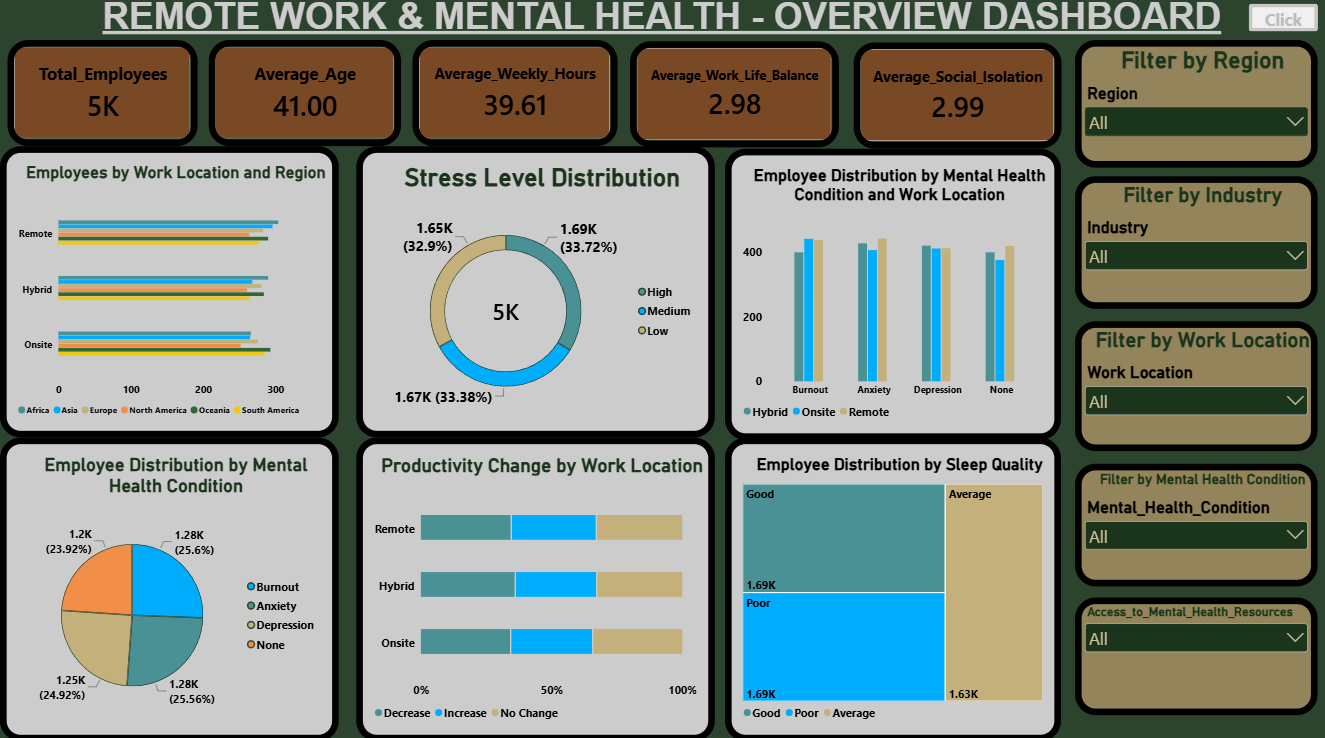

The page's visual inventory and layout, read from the dashboard file:
{"tool":"powerbi","page":{"name":"Overview Dashboard","canvas":[1920,1080],"ordinal":1},"visuals":[{"type":"textbox","box":[133.9,0,1648.6,65.1],"z":0},{"type":"clusteredBarChart","title":"Employees by Work Location and Region","fields":{"Category":["Cleaned_Data1.Work_Location"],"Series":["Cleaned_Data1.Region"],"Y":["Count(Cleaned_Data1.Employee_ID)"]},"box":[0,219,490.4,421.7],"z":2},{"type":"donutChart","title":"Stress Level Distribution","fields":{"Category":["Cleaned_Data1.Stress_Level"],"Y":["CountNonNull(Cleaned_Data1.Employee_ID)"]},"box":[515.8,219,519.4,421.7],"z":3},{"type":"pieChart","title":"Employee Distribution by Mental Health Condition","fields":{"Category":["Cleaned_Data1.Mental_Health_Condition"],"Y":["Count(Cleaned_Data1.Employee_ID)"]},"box":[0,640.6,490.4,439.7],"z":4},{"type":"hundredPercentStackedBarChart","title":"Productivity Change by Work Location","fields":{"Category":["Cleaned_Data1.Work_Location"],"Series":["Cleaned_Data1.Productivity_Change"],"Y":["Count(Cleaned_Data1.Employee_ID)"]},"box":[515.8,640.6,519.4,439.7],"z":5},{"type":"treemap","title":"Employee Distribution by Sleep Quality","fields":{"Group":["Cleaned_Data1.Sleep_Quality"],"Values":["Count(Cleaned_Data1.Employee_ID)"]},"box":[1049.6,640.6,486.8,439.7],"z":6},{"type":"clusteredColumnChart","title":"Employee Distribution by Mental Health Condition and Work Location","fields":{"Category":["Cleaned_Data1.Mental_Health_Condition"],"Series":["Cleaned_Data1.Work_Location"],"Y":["CountNonNull(Cleaned_Data1.Employee_ID)"]},"box":[1049.6,222.6,486.8,421.7],"z":7},{"type":"slicer","title":"Filter by Region","fields":{"Values":["Cleaned_Data1.Region"]},"box":[1556.3,65.1,351.1,184.6],"z":8},{"type":"slicer","title":"Filter by Industry","fields":{"Values":["Cleaned_Data1.Industry"]},"box":[1556.3,262.4,351.1,191.8],"z":9},{"type":"slicer","title":"Filter by Work Location","fields":{"Values":["Cleaned_Data1.Work_Location"]},"box":[1556.3,472.3,351.1,188.2],"z":10},{"type":"slicer","title":"Filter by Mental Health Condition","fields":{"Values":["Cleaned_Data1.Mental_Health_Condition"]},"box":[1556.3,678.6,351.1,177.3],"z":11},{"type":"slicer","fields":{"Values":["Cleaned_Data1.Access_to_Mental_Health_Resources"]},"box":[1556.3,872.3,351.1,170.1],"z":12},{"type":"cardVisual","fields":{"Data":["Cleaned_Data1.Total_Employees"]},"box":[10.9,65.1,275.1,153.8],"z":13},{"type":"cardVisual","fields":{"Data":["Cleaned_Data1.Average_Age"]},"box":[302.2,65.1,278.7,153.8],"z":14},{"type":"cardVisual","fields":{"Data":["Cleaned_Data1.Average_Weekly_Hours"]},"box":[597.2,65.1,296.8,153.8],"z":15},{"type":"cardVisual","fields":{"Data":["Cleaned_Data1.Average_Work_Life_Balance"]},"box":[912.1,67,302.2,153.8],"z":16},{"type":"cardVisual","fields":{"Data":["Cleaned_Data1.Average_Social_Isolation"]},"box":[1236,68.8,300.4,153.8],"z":17},{"type":"actionButton","box":[1807.9,12.7,100,40],"z":18}]}

Visuals, with their boxes in screenshot pixels (x1, y1, x2, y2), scaled from the page's 1920x1080 canvas onto the 1325x738 screenshot:
textbox: box=[92, 0, 1230, 44]
"Employees by Work Location and Region" clusteredBarChart: box=[0, 150, 338, 438]
"Stress Level Distribution" donutChart: box=[356, 150, 714, 438]
"Employee Distribution by Mental Health Condition" pieChart: box=[0, 438, 338, 737]
"Productivity Change by Work Location" hundredPercentStackedBarChart: box=[356, 438, 714, 737]
"Employee Distribution by Sleep Quality" treemap: box=[724, 438, 1060, 737]
"Employee Distribution by Mental Health Condition and Work Location" clusteredColumnChart: box=[724, 152, 1060, 440]
"Filter by Region" slicer: box=[1074, 44, 1316, 171]
"Filter by Industry" slicer: box=[1074, 179, 1316, 310]
"Filter by Work Location" slicer: box=[1074, 323, 1316, 451]
"Filter by Mental Health Condition" slicer: box=[1074, 464, 1316, 585]
slicer - Cleaned_Data1.Access_to_Mental_Health_Resources: box=[1074, 596, 1316, 712]
cardVisual - Cleaned_Data1.Total_Employees: box=[8, 44, 197, 150]
cardVisual - Cleaned_Data1.Average_Age: box=[209, 44, 401, 150]
cardVisual - Cleaned_Data1.Average_Weekly_Hours: box=[412, 44, 617, 150]
cardVisual - Cleaned_Data1.Average_Work_Life_Balance: box=[629, 46, 838, 151]
cardVisual - Cleaned_Data1.Average_Social_Isolation: box=[853, 47, 1060, 152]
actionButton: box=[1248, 9, 1317, 36]
